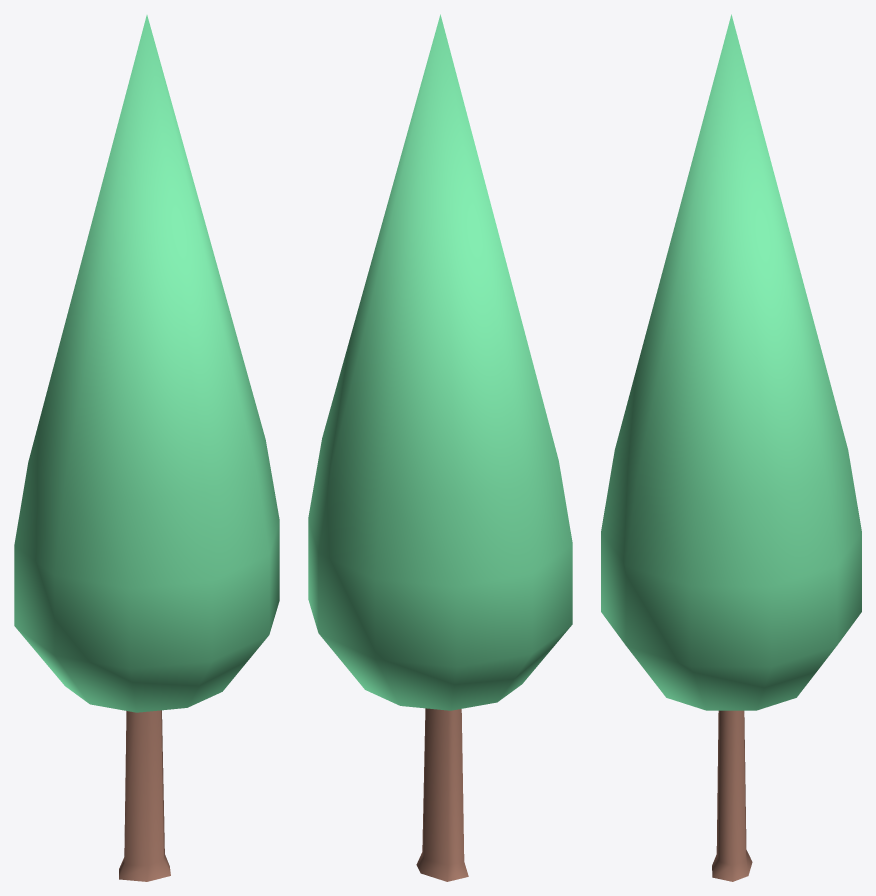
File: Town_Tree_C.FBX
The picture shows the model from 3 angles, left to right: view 1: azimuth 30°, elevation 25°; view 2: azimuth 150°, elevation 25°; view 3: azimuth 270°, elevation 25°; orthographic projection.
Parts seen in each view (by area): view 1: Town_Tree_C; view 2: Town_Tree_C; view 3: Town_Tree_C.
Part boxes in pixels (x1=…): Town_Tree_C: x1=14, y1=15, x2=279, y2=881; Town_Tree_C: x1=308, y1=14, x2=572, y2=881; Town_Tree_C: x1=601, y1=14, x2=861, y2=881.
Bounding box in the file's own units: 134 × 488 × 135.
